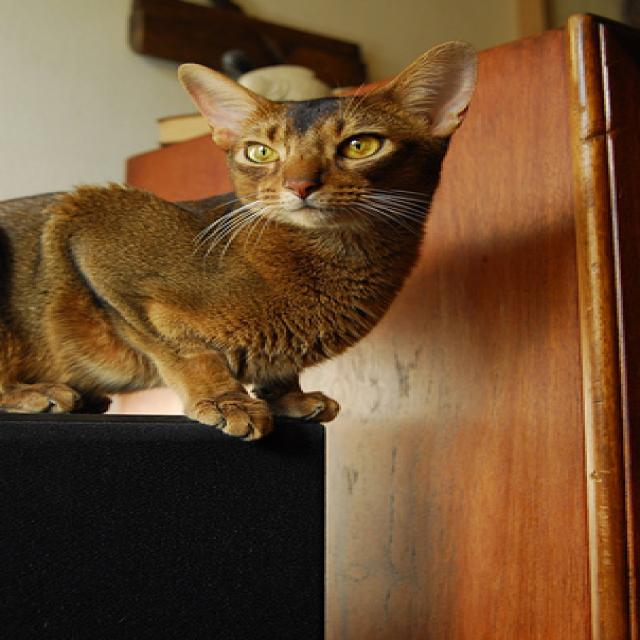Abyssinian: (0, 31, 483, 444)
